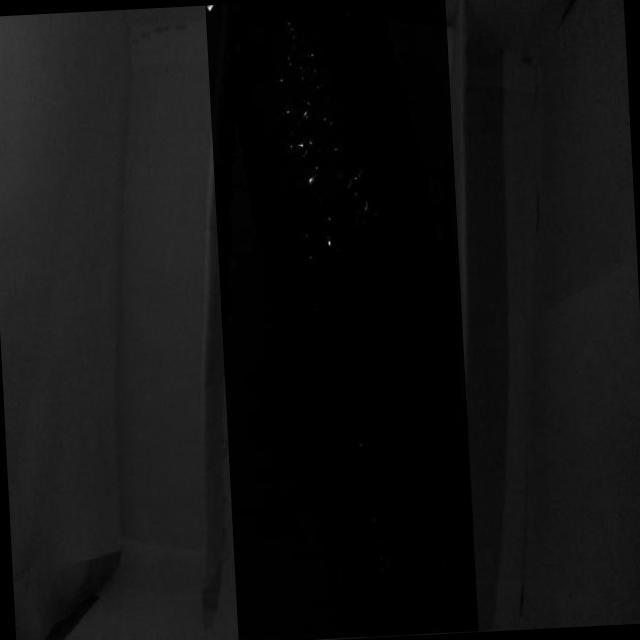good: (205, 0, 478, 640)
